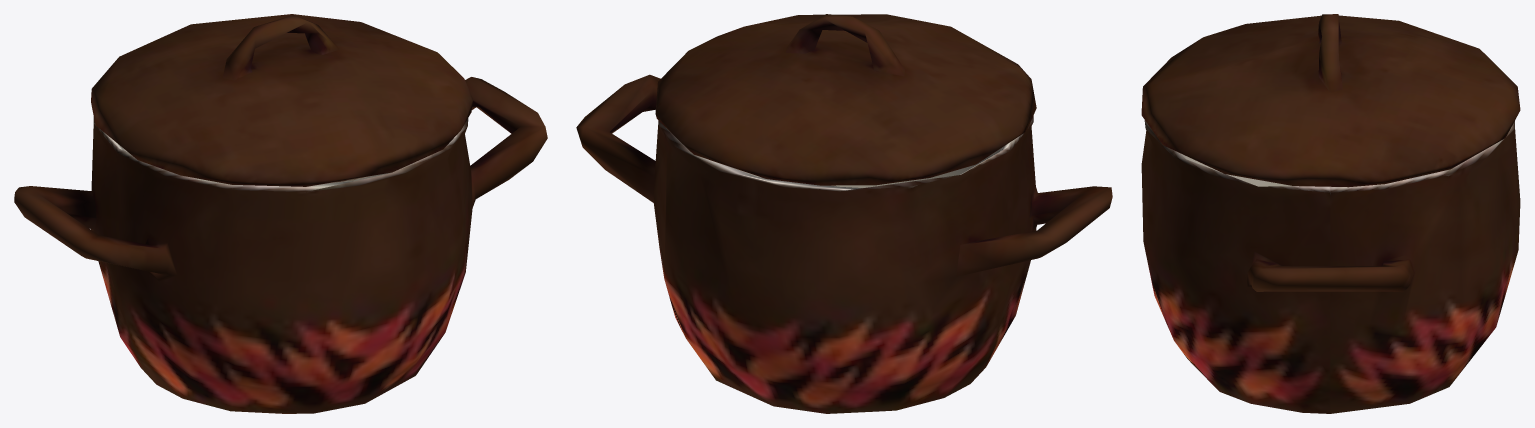
The model's file is pot_enamel_01.glb.
The picture shows the model from 3 angles, left to right: view 1: azimuth 30°, elevation 25°; view 2: azimuth 150°, elevation 25°; view 3: azimuth 270°, elevation 25°; orthographic projection.
Visible parts, largest first — view 1: pot_enamel_01_base, pot_enamel_01_lid; view 2: pot_enamel_01_base, pot_enamel_01_lid; view 3: pot_enamel_01_base, pot_enamel_01_lid.
Boxes of the visible parts, bbox=[...] form: pot_enamel_01_base: bbox=[14, 77, 547, 413]; pot_enamel_01_lid: bbox=[91, 14, 472, 186]; pot_enamel_01_base: bbox=[576, 74, 1112, 413]; pot_enamel_01_lid: bbox=[655, 14, 1036, 185]; pot_enamel_01_base: bbox=[1141, 120, 1520, 413]; pot_enamel_01_lid: bbox=[1141, 14, 1520, 187].
Size of the model in its own units: 0.2609 by 0.178 by 0.179.
Materials: 1 (1 with a texture image).
